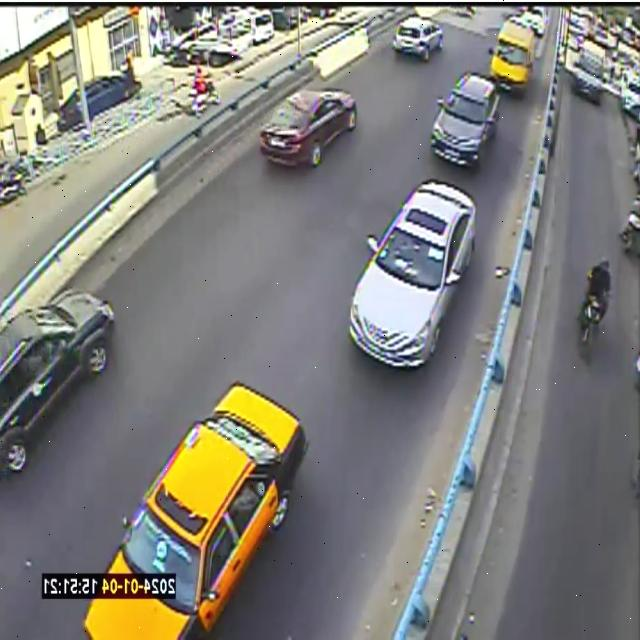car: (85, 382, 308, 639), (350, 179, 476, 367), (1, 288, 115, 474), (260, 90, 358, 166), (431, 72, 500, 166), (490, 20, 536, 94), (393, 17, 444, 61)
